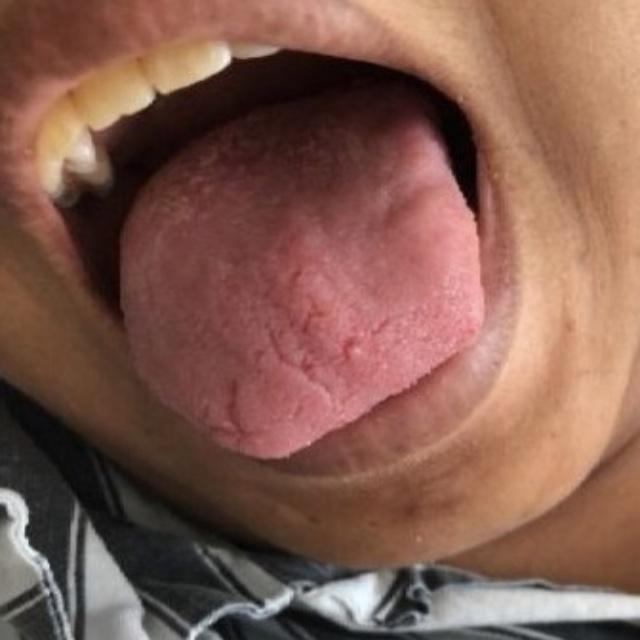baitaishe: (118, 115, 484, 461)
liewenshe: (265, 296, 399, 381), (208, 376, 266, 446)
